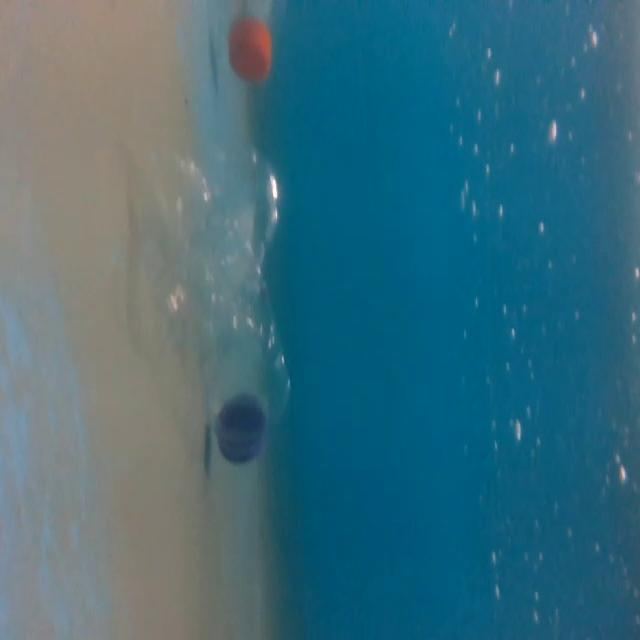plastic bottle: (132, 139, 314, 480)
